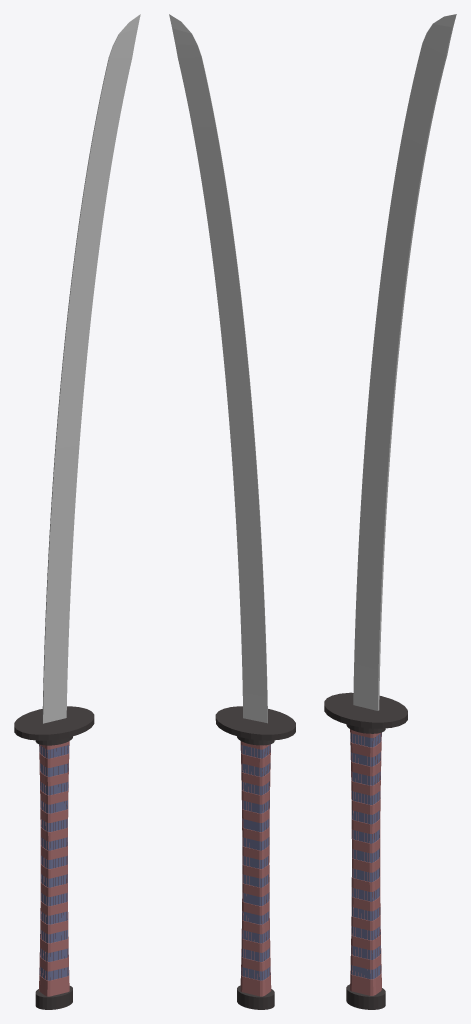
The model's file is katana.fbx.
3 renders of one model, left to right at view 1: azimuth 30°, elevation 25°; view 2: azimuth 150°, elevation 25°; view 3: azimuth 330°, elevation 25°, orthographic. The views are drawn at different scales.
Visible parts, largest first — view 1: blade_1, handle_src_2_2, hand_guard, handle_footer_1; view 2: blade_1, handle_src_2_2, hand_guard, handle_footer_1; view 3: blade_1, handle_src_2_2, hand_guard, handle_footer_1.
Boxes of the visible parts, box(x1,y1,x2,y2) form: blade_1: box(42, 14, 140, 723); handle_src_2_2: box(39, 741, 69, 996); hand_guard: box(14, 706, 94, 740); handle_footer_1: box(35, 986, 72, 1009); blade_1: box(169, 14, 267, 723); handle_src_2_2: box(240, 741, 271, 996); hand_guard: box(215, 706, 295, 740); handle_footer_1: box(237, 985, 274, 1009); blade_1: box(353, 14, 456, 710); handle_src_2_2: box(350, 729, 381, 995); hand_guard: box(324, 692, 407, 728); handle_footer_1: box(346, 984, 385, 1009).
Bounding box in the file's own units: 99.77 × 744 × 42.14.
